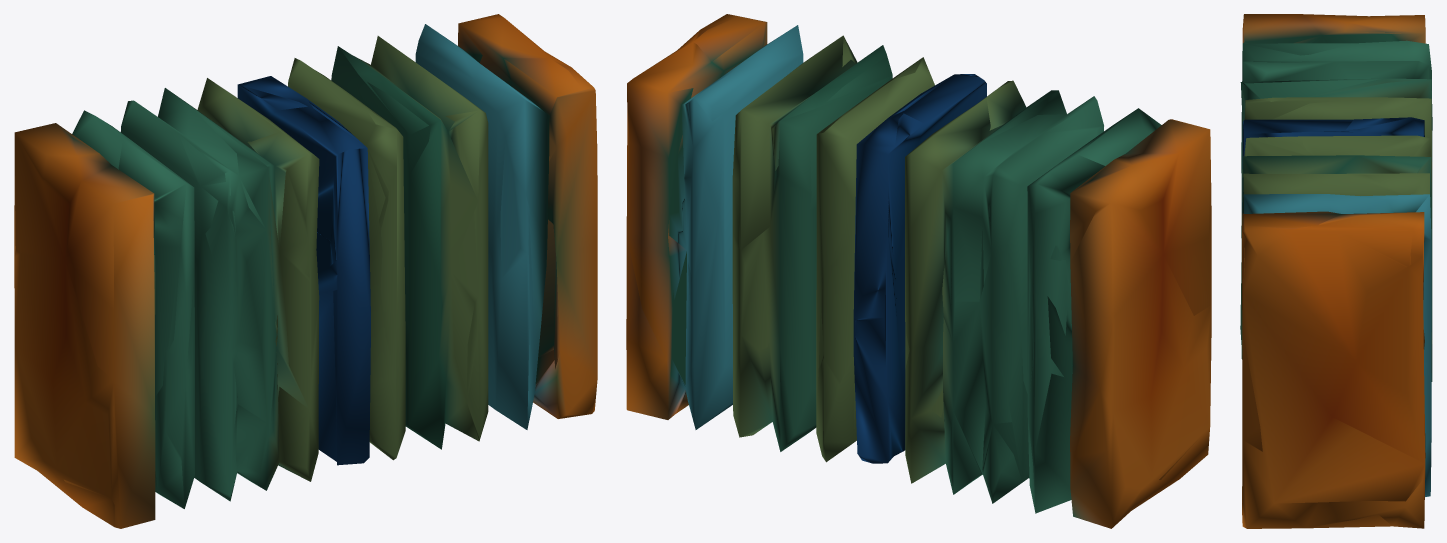
File: gen3d-accordion-lod1.glb
3 renders of one model, left to right at view 1: azimuth 30°, elevation 25°; view 2: azimuth 150°, elevation 25°; view 3: azimuth 270°, elevation 25°, orthographic. The views are drawn at different scales.
Visible parts, largest first — view 1: part_0; view 2: part_0; view 3: part_0.
Boxes of the visible parts, left/top/right/bottom form: part_0: left=14, top=14, right=597, bottom=528; part_0: left=626, top=14, right=1211, bottom=528; part_0: left=1240, top=14, right=1432, bottom=528.
Size of the model in its own units: 1.52 by 0.9993 by 0.5705.
